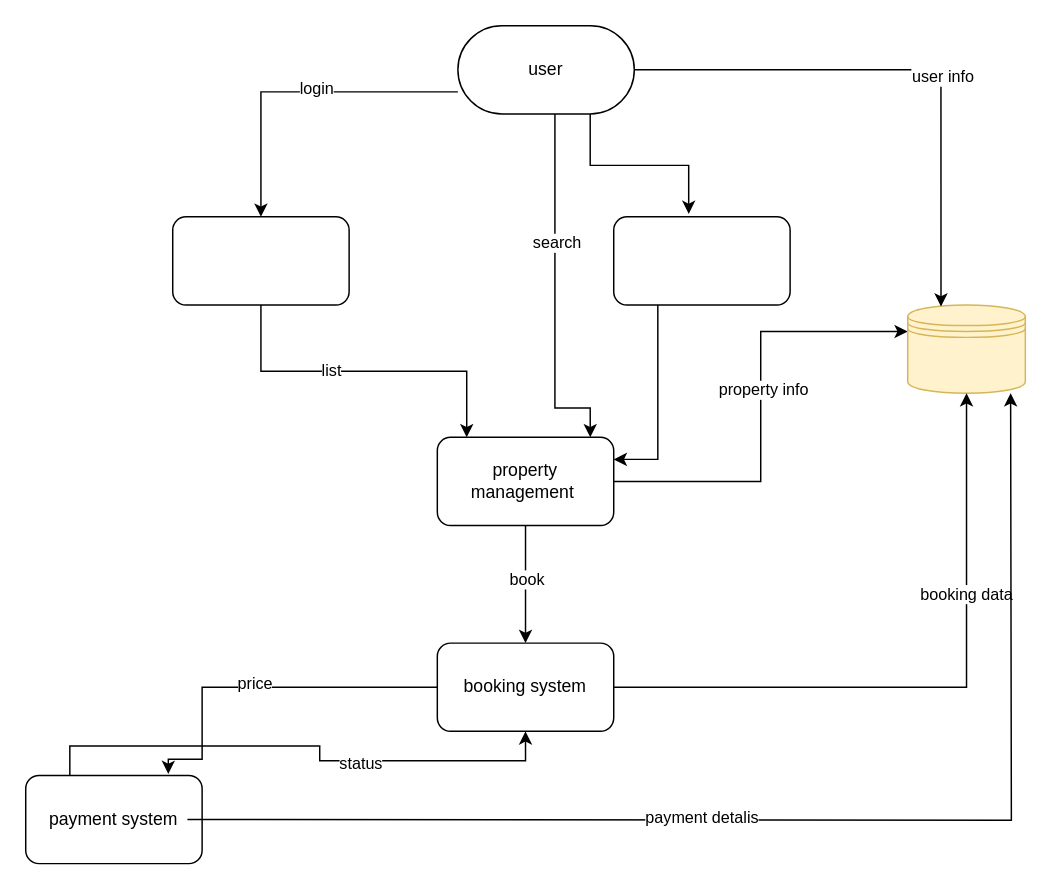
The diagram is 1051 pixels wide and 889 high, and some of its shapes have lost their labels. Here are the shapes that lost their labels. From the top down, the centre of each, then its label:
At (x=260, y=260): "authentication".
At (x=701, y=260): "reviewing system".
